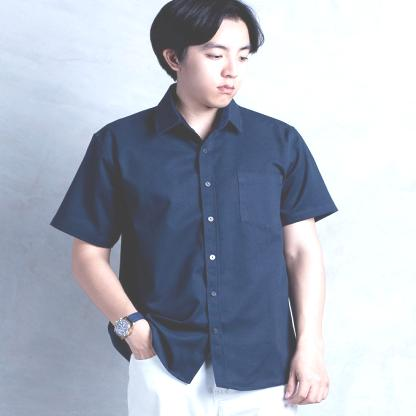dress: (50, 83, 333, 387)
